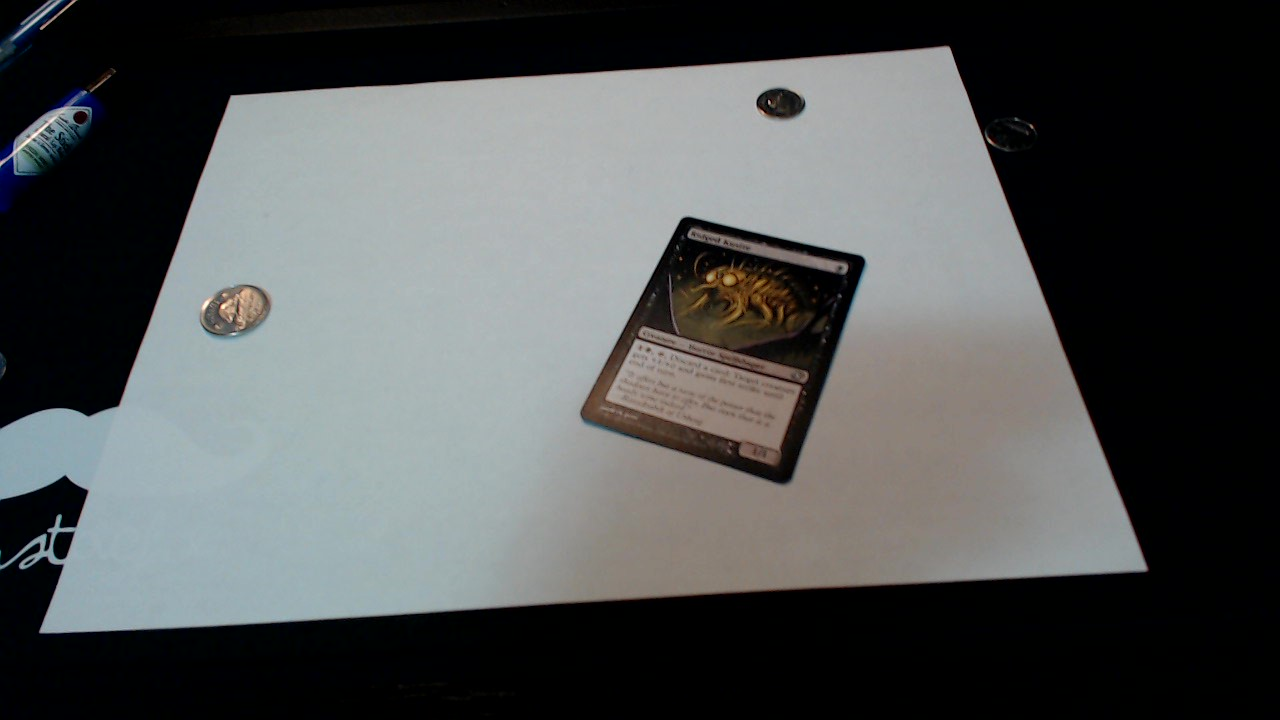MTG Card: (573, 205, 884, 490)
